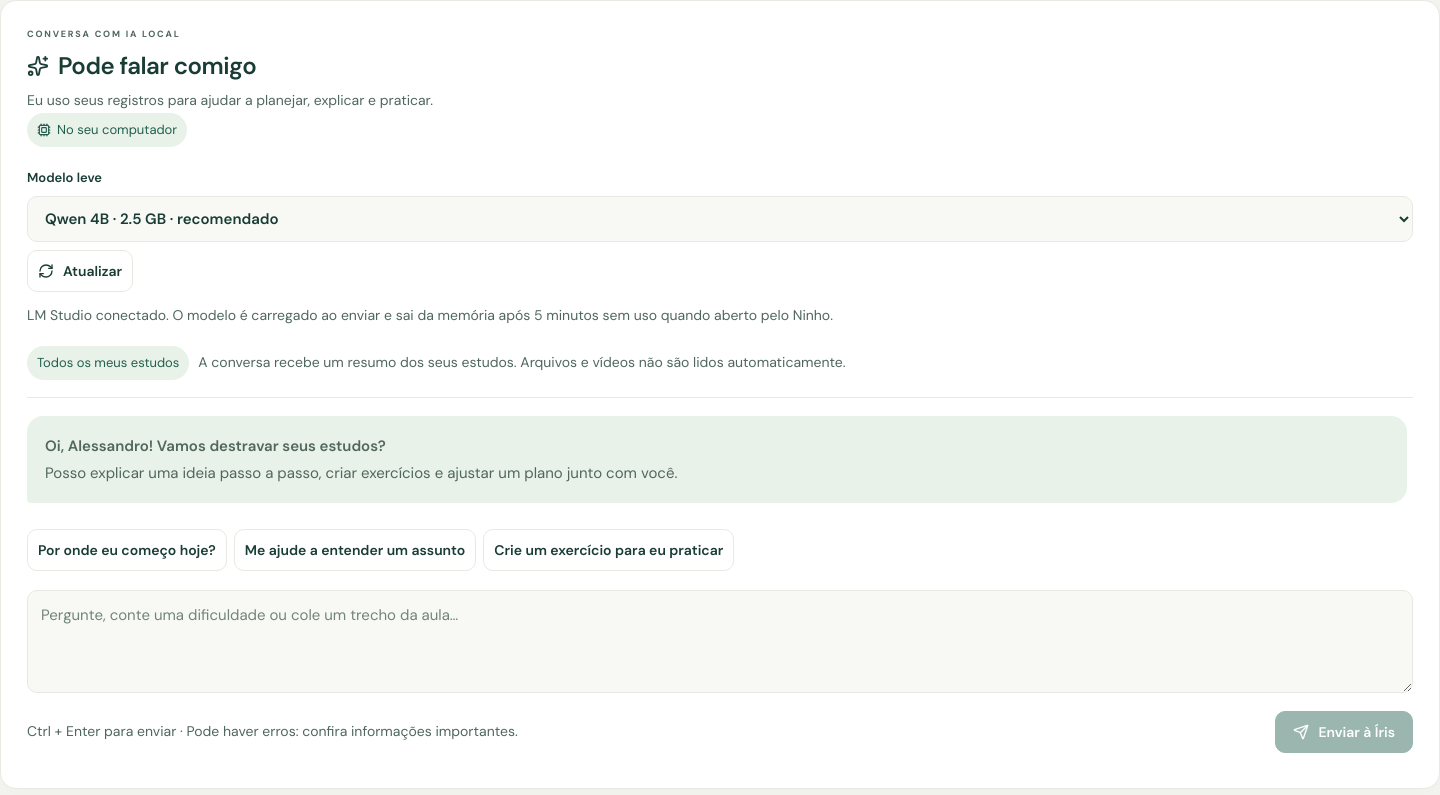
conversa real da Íris pela ponte nativa › evita envio duplicado durante o mesmo pedido e cancela ao sair
Expected: the dropdown named "Modelo de IA" shows "Qwen 4B · 2.5 GB · recomendado", [27,196,1413,242]
Type "Explique chave estrangeira" into the text box named "Converse com Íris" at (720, 641), box [27,590,1413,693]
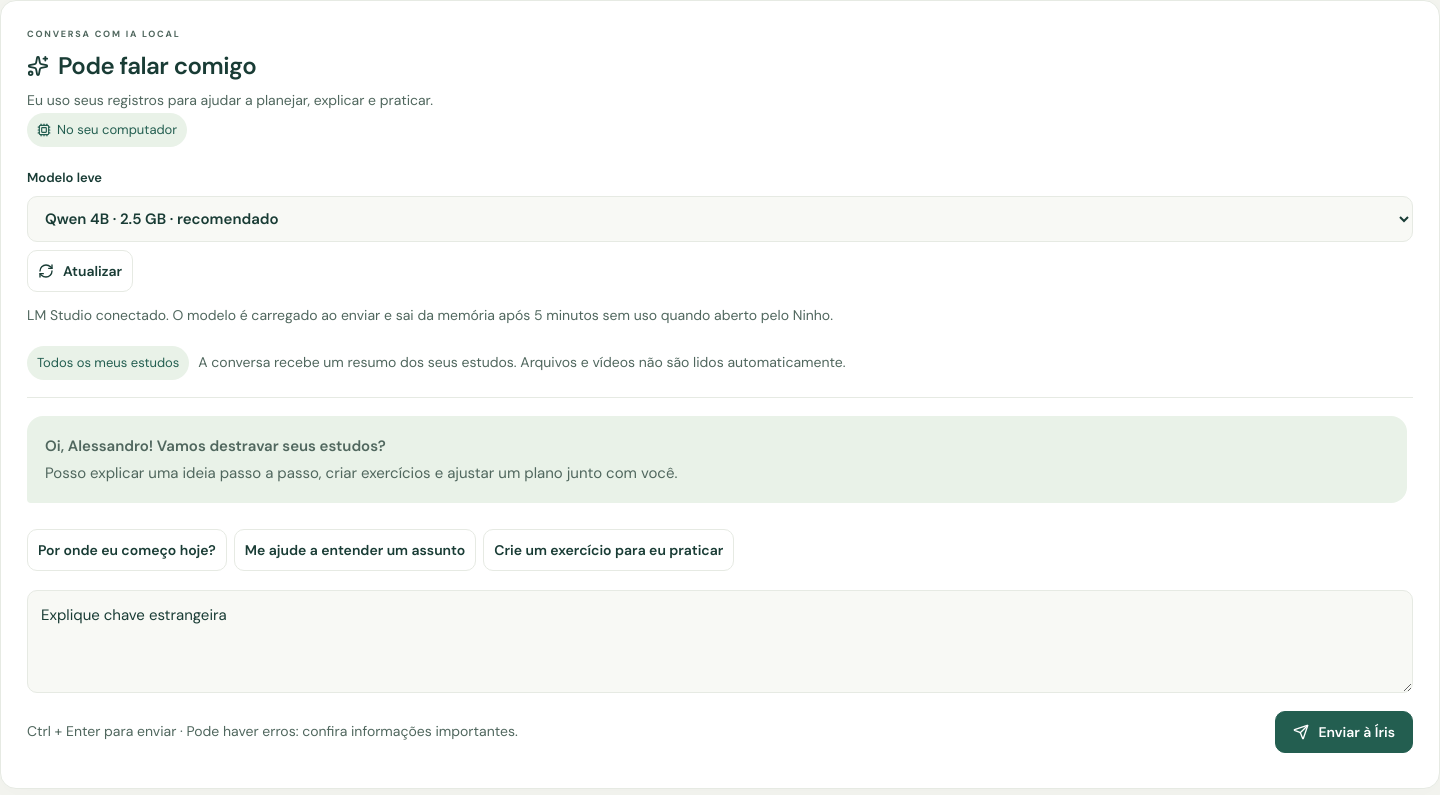
Click the button "Enviar à Íris" at (1344, 732), box [1275,711,1413,753]
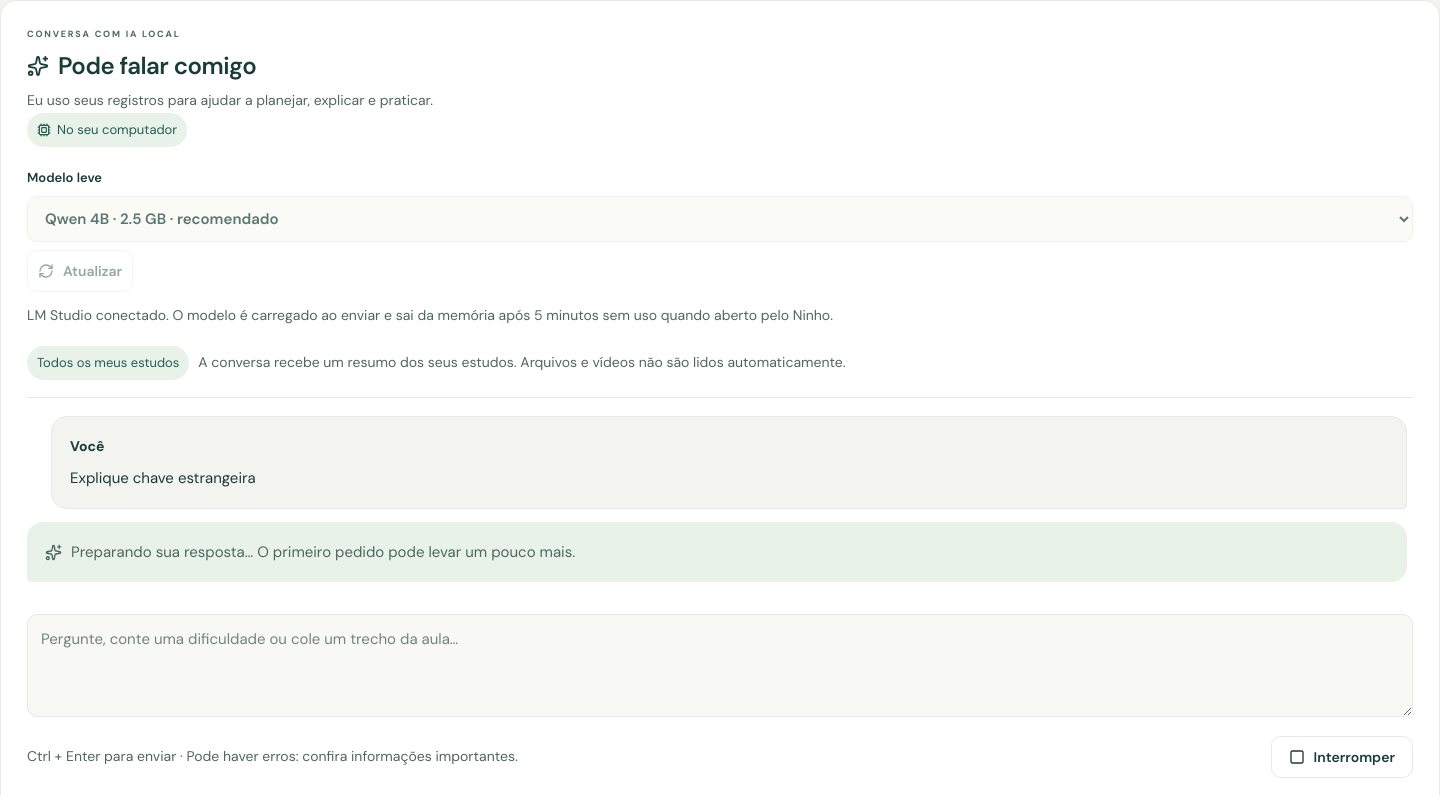
Expected: the text box named "Converse com Íris" is disabled, [27,614,1413,717]
